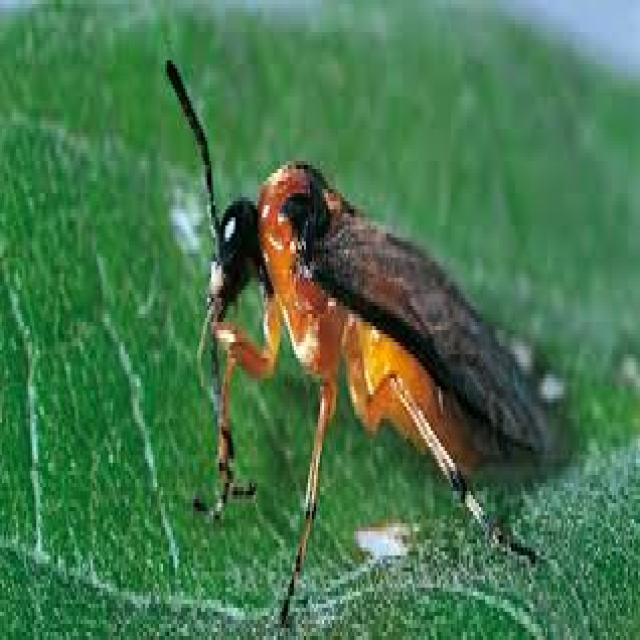Saw Fly: (158, 49, 582, 632)
